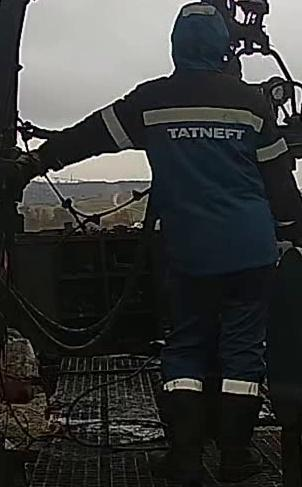gloves: (10, 139, 67, 199)
vest: (98, 69, 292, 274)
